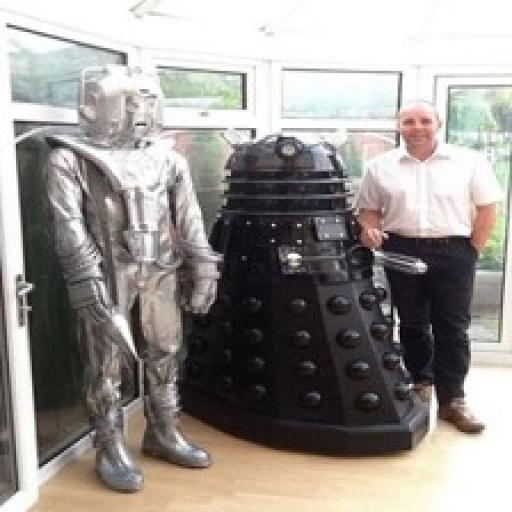dalek: (182, 124, 436, 460)
